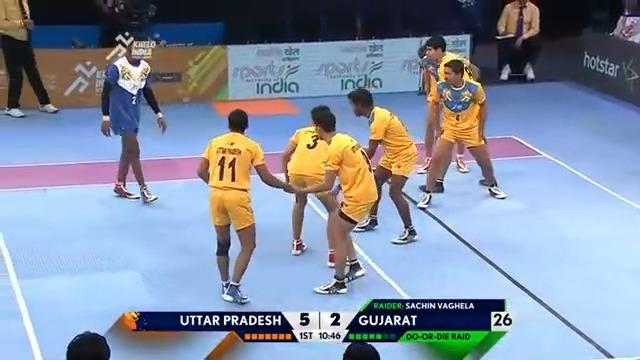Player: (195, 106, 296, 305), (284, 104, 380, 296), (345, 85, 420, 245), (416, 35, 483, 174), (416, 43, 430, 95)
Raider: (96, 32, 169, 205)
referee: (0, 0, 59, 117), (495, 0, 540, 82)
